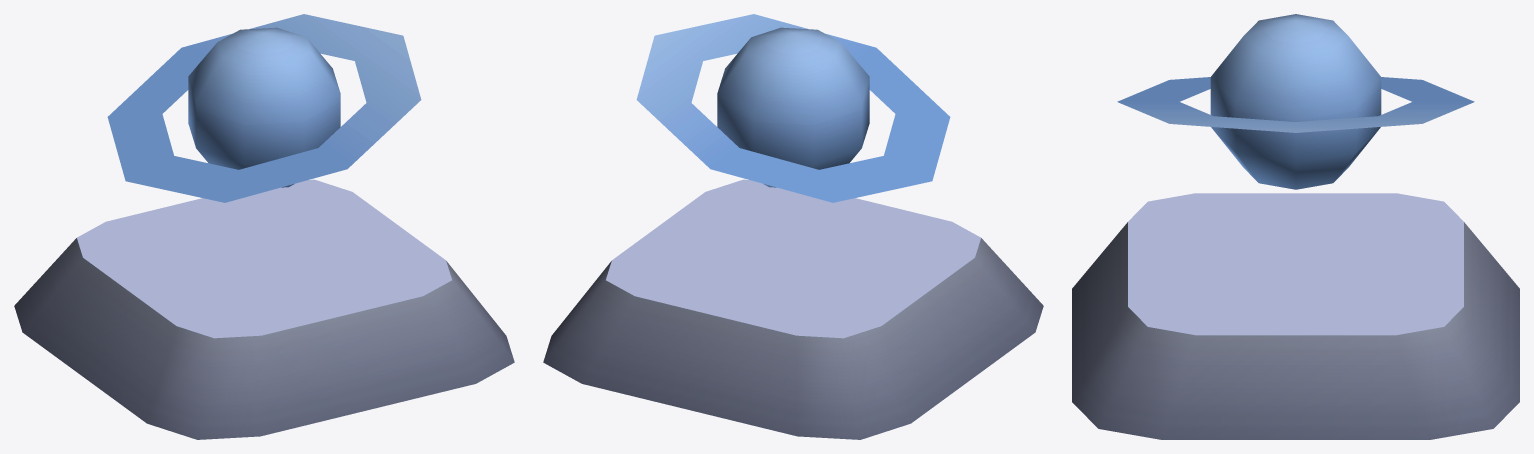
The model's file is station.table_display_planet.glb.
3 views of the same model, side by side, from view 1: azimuth 30°, elevation 25°; view 2: azimuth 150°, elevation 25°; view 3: azimuth 270°, elevation 25° (orthographic). The views are drawn at different scales.
Parts seen in each view (by area): view 1: table-display-planet, planet-ring, planet; view 2: table-display-planet, planet-ring, planet; view 3: table-display-planet, planet, planet-ring.
Part boxes in pixels (x1,y1,x2,y2): table-display-planet: (14, 179, 514, 439); planet-ring: (107, 14, 421, 202); planet: (188, 27, 340, 187); table-display-planet: (543, 179, 1043, 439); planet-ring: (636, 14, 950, 202); planet: (717, 27, 869, 187); table-display-planet: (1072, 193, 1519, 439); planet: (1210, 14, 1381, 189); planet-ring: (1117, 77, 1474, 132).
Bounding box in the file's own units: 0.8636 × 0.6909 × 0.8636.
1 material, 1 textured.
